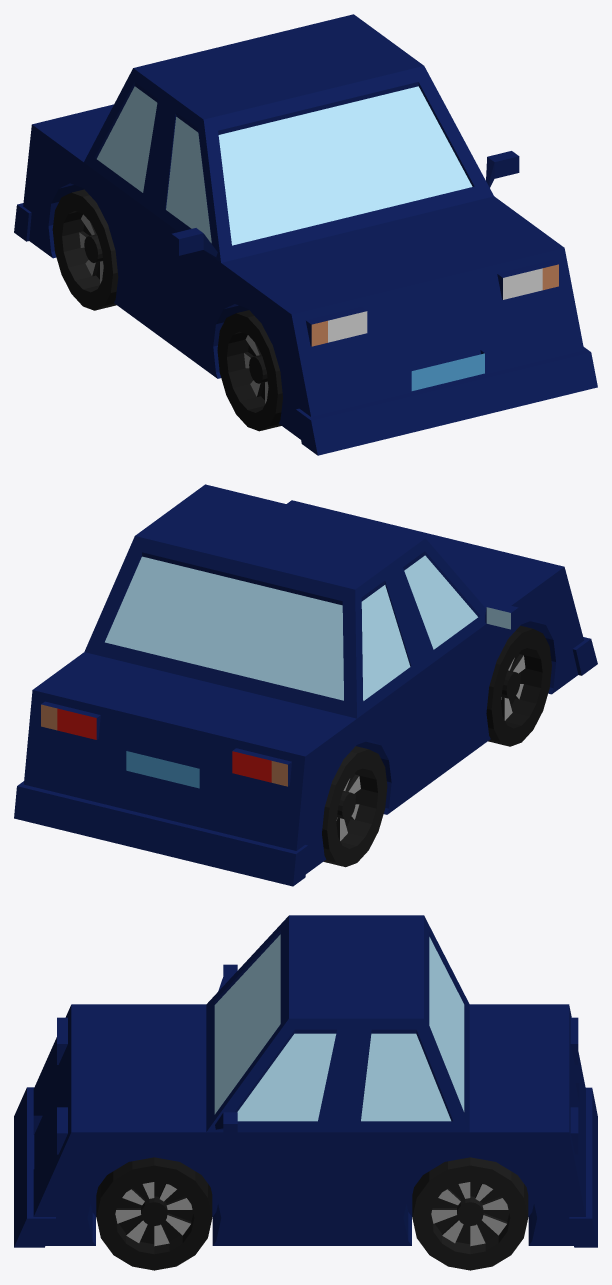
Rendered from minjoon_car.fbx.
The picture shows the model from 3 angles, top to bottom: view 1: azimuth 30°, elevation 25°; view 2: azimuth 150°, elevation 25°; view 3: azimuth 270°, elevation 25°; orthographic projection. The views are drawn at different scales.
Visible parts, largest first — view 1: CarBody, WheelFR, WheelRR; view 2: CarBody, WheelFR, WheelRR; view 3: CarBody, WheelRL, WheelFL.
Part boxes in pixels (x1,y1,x2,y2): CarBody: (14, 14, 597, 455); WheelFR: (217, 310, 282, 431); WheelRR: (52, 189, 118, 310); CarBody: (14, 484, 597, 886); WheelFR: (486, 625, 551, 746); WheelRR: (322, 746, 387, 867); CarBody: (14, 915, 597, 1247); WheelRL: (412, 1157, 528, 1270); WheelFL: (96, 1157, 212, 1270).
Bounding box in the file's own units: 249 × 386 × 175.
